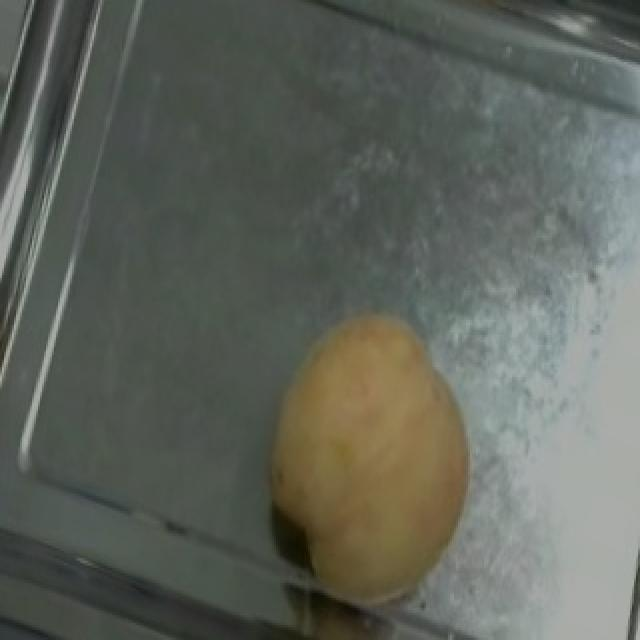Fruit: (220, 278, 508, 640)
